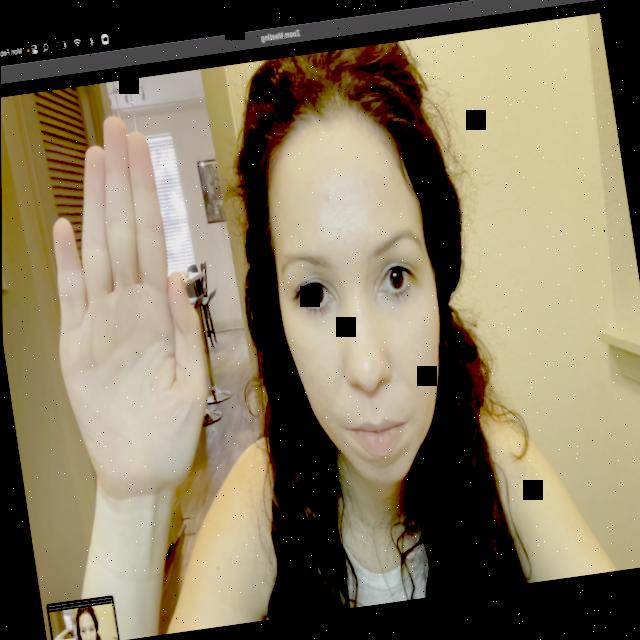Paper: (17, 100, 231, 514)
